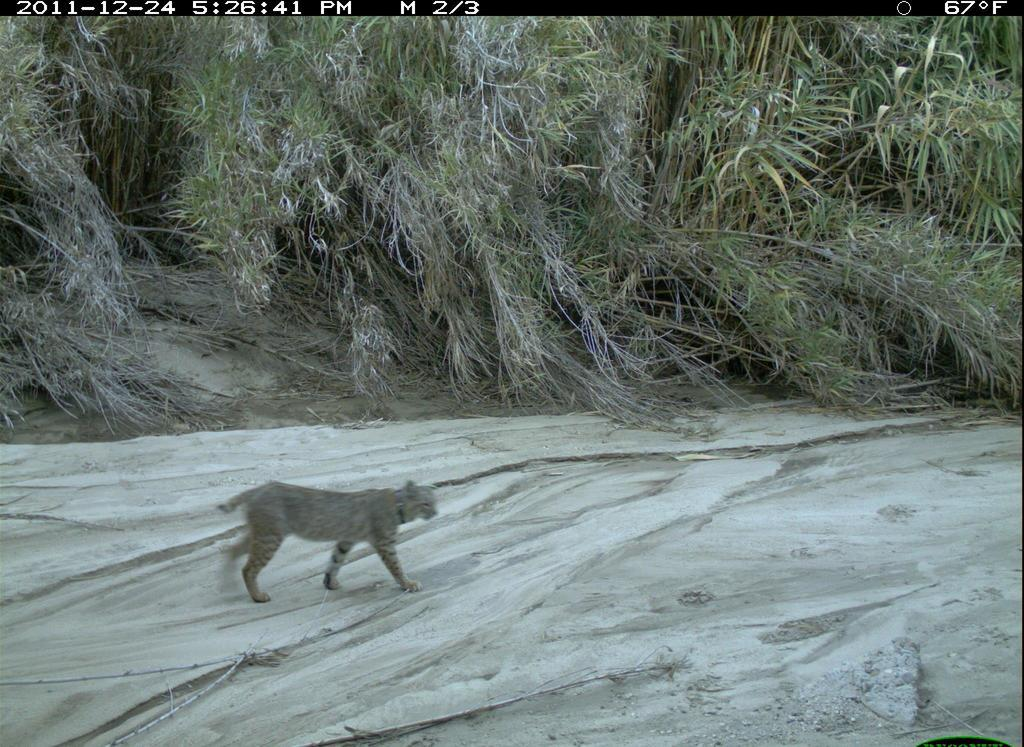bobcat: (213, 475, 445, 611)
